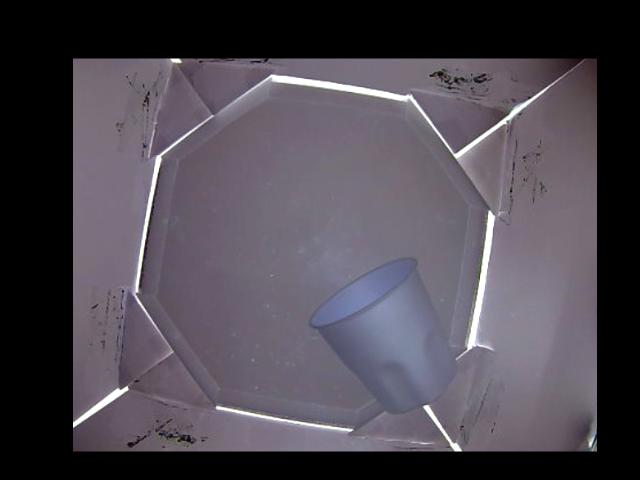Cup: (308, 255, 457, 410)
